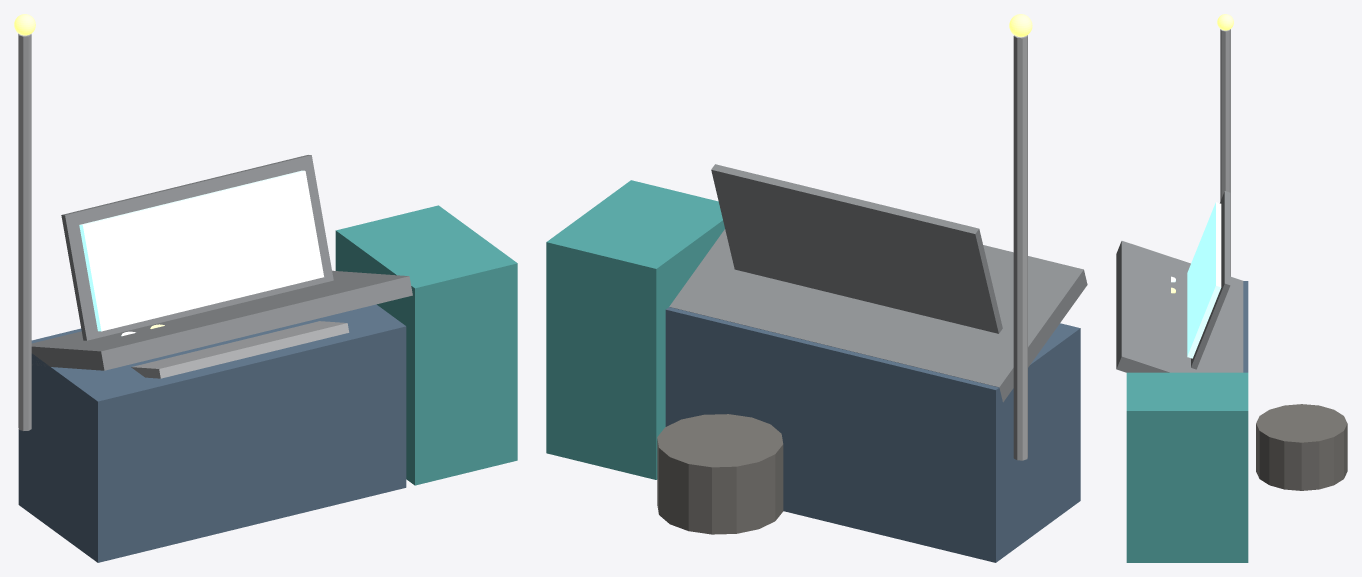
The model's file is control-terminal.glb.
The picture shows the model from 3 angles, left to right: view 1: azimuth 30°, elevation 25°; view 2: azimuth 150°, elevation 25°; view 3: azimuth 270°, elevation 25°; orthographic projection. The views are drawn at different scales.
Visible parts, largest first — view 1: Base, SideCabinet, Screen, Desk, ScreenFrame, Mast, Keyboard; view 2: Base, SideCabinet, ScreenFrame, Desk, CableDrum, Mast; view 3: SideCabinet, Desk, CableDrum, Screen, Mast, ScreenFrame, Base.
Part boxes in pixels (x1,y1,x2,y2): Base: [18, 304, 406, 562]; SideCabinet: [335, 205, 517, 485]; Screen: [79, 170, 323, 331]; Desk: [31, 270, 412, 370]; ScreenFrame: [61, 155, 333, 340]; Mast: [18, 33, 31, 430]; Keyboard: [131, 321, 349, 378]; Base: [665, 307, 1080, 562]; SideCabinet: [546, 180, 724, 479]; ScreenFrame: [711, 164, 1002, 333]; Desk: [669, 229, 1087, 402]; CableDrum: [657, 414, 783, 534]; Mast: [1013, 35, 1027, 460]; SideCabinet: [1126, 372, 1248, 562]; Desk: [1116, 241, 1243, 372]; CableDrum: [1256, 404, 1347, 490]; Screen: [1187, 202, 1221, 358]; Mast: [1220, 29, 1230, 276]; ScreenFrame: [1191, 191, 1230, 369]; Base: [1243, 281, 1248, 372].
Bounding box in the file's own units: 2.55 × 2.8 × 1.52.
